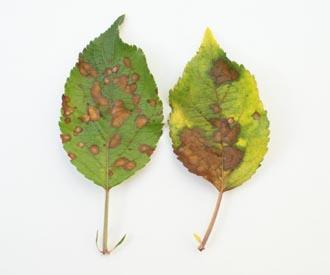Apple Scab Leaf: (54, 11, 166, 202), (175, 13, 278, 201)
